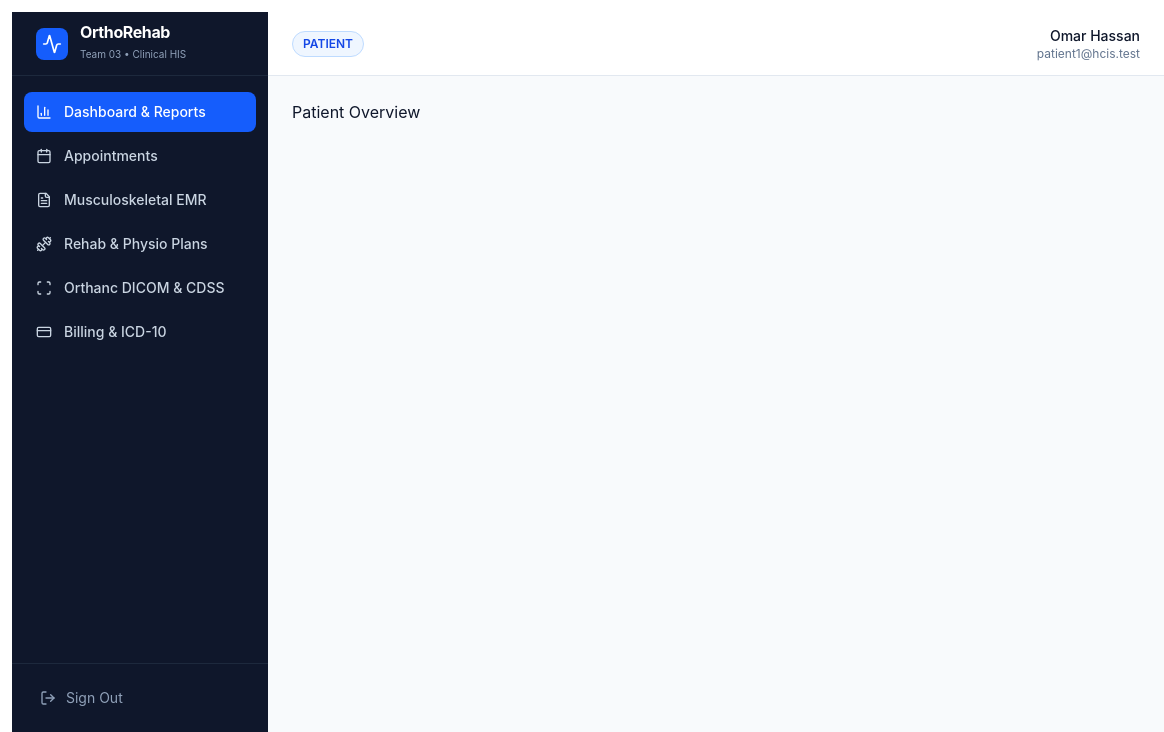
Test: AppShell navigation & DicomViewerPage workstation › filters sidebar links by role, hides role-switcher, and calls authApi.logout on Sign Out
Expected: the text "OrthoRehab" is shown, left=80, top=22, right=170, bottom=42
Expected: the link "Appointments" is shown, left=36, top=147, right=158, bottom=164
Click the button "Sign Out".
click(140, 698)  # box left=28, top=680, right=252, bottom=716
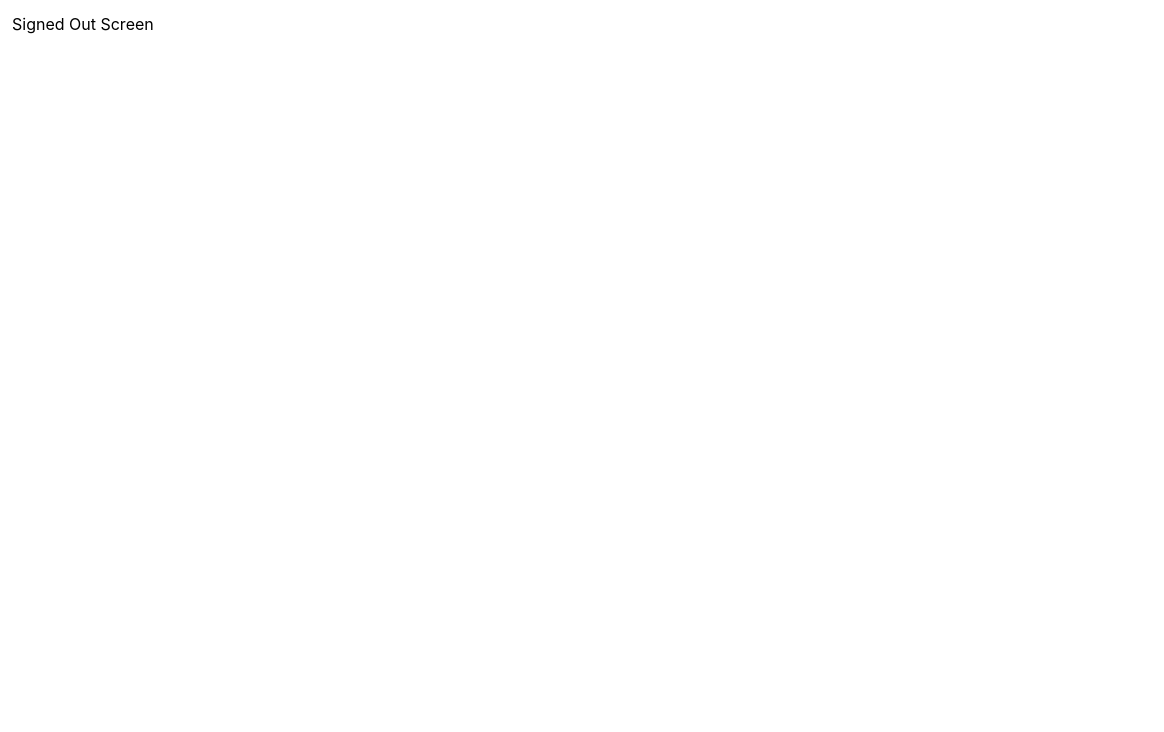
Result: the text "Signed Out Screen" is shown at left=12, top=14, right=154, bottom=34
